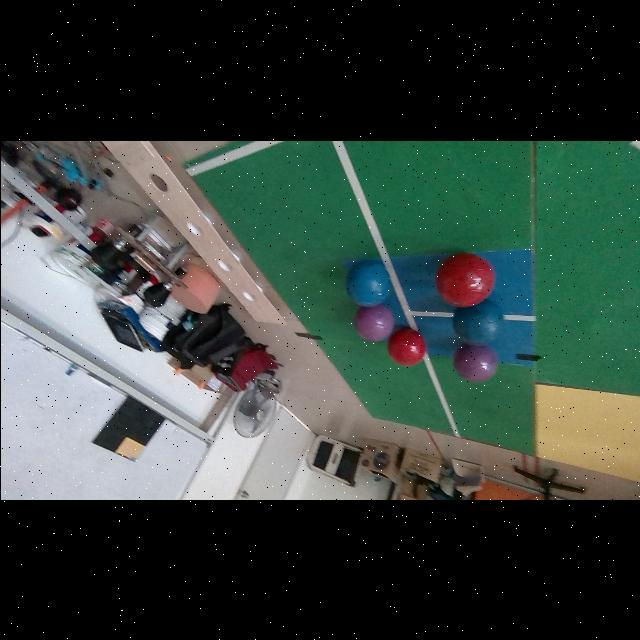B: (454, 300, 503, 345), (345, 260, 390, 306)
P: (452, 344, 496, 383), (352, 304, 394, 341)
R: (435, 254, 494, 307), (386, 328, 425, 366)
